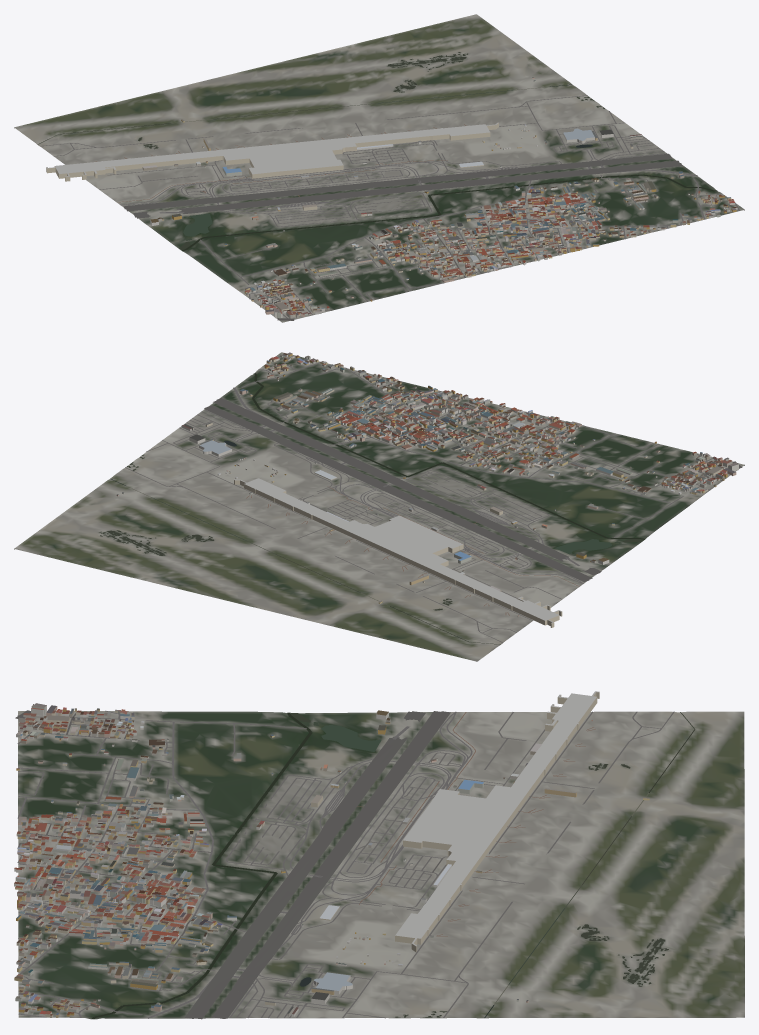
3 renders of one model, top to bottom at view 1: azimuth 30°, elevation 25°; view 2: azimuth 150°, elevation 25°; view 3: azimuth 270°, elevation 25°, orthographic. The views are drawn at different scales.
Parts seen in each view (by area): view 1: ground, buildings, roads, water; view 2: ground, buildings, roads, water; view 3: ground, buildings, roads, water.
Part boxes in pixels (x1,y1,x2,y2): ground: (14, 14, 744, 322); buildings: (46, 77, 737, 318); roads: (40, 95, 740, 320); water: (38, 52, 717, 251); ground: (14, 352, 744, 661); buildings: (116, 352, 738, 627); roads: (125, 353, 742, 642); water: (99, 373, 644, 644); ground: (18, 711, 744, 1019); buildings: (14, 691, 649, 1017); roads: (15, 710, 674, 1019); water: (91, 712, 695, 1019).
Bounding box in the file's own units: 1469 × 23.79 × 1411.
